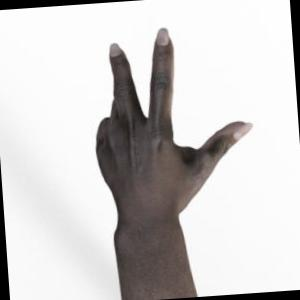scissors: (96, 29, 252, 300)
